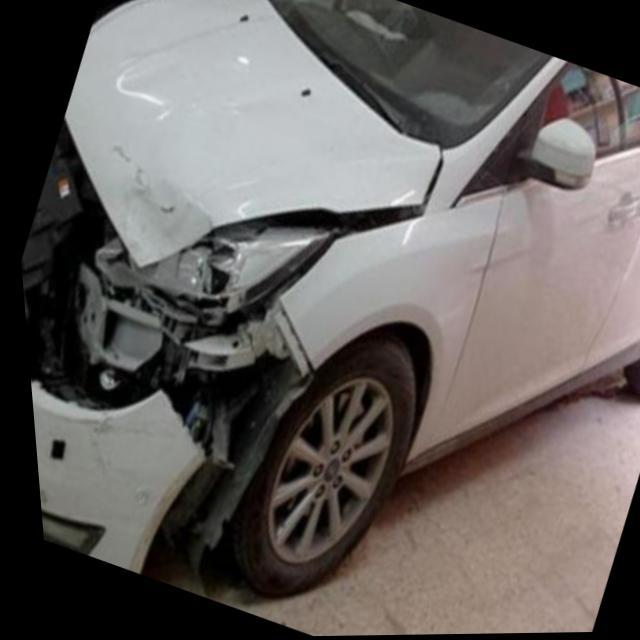dislocated part: (17, 112, 420, 582)
